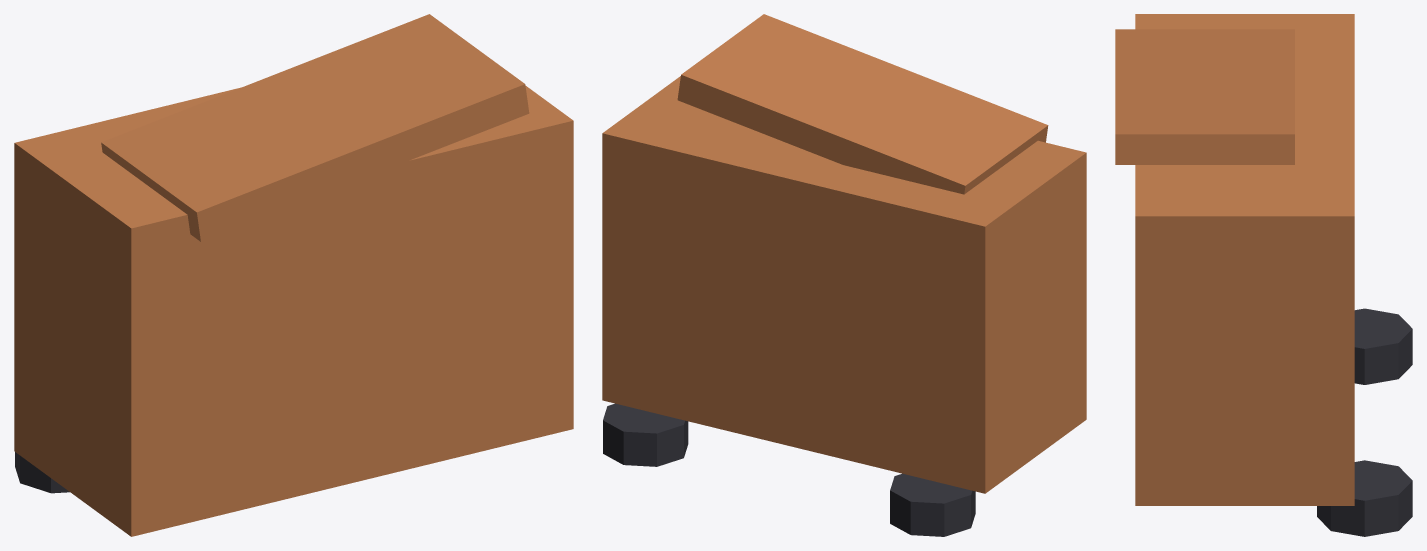
File: cave_mine_cart_broken.glb
The picture shows the model from 3 angles, left to right: view 1: azimuth 30°, elevation 25°; view 2: azimuth 150°, elevation 25°; view 3: azimuth 270°, elevation 25°; orthographic projection. The views are drawn at different scales.
Parts seen in each view (by area): view 1: cart_body, broken_side, wheel_1; view 2: cart_body, broken_side, wheel_2, wheel_1; view 3: cart_body, broken_side, wheel_2, wheel_1.
Part boxes in pixels (x1,y1,x2,y2): cart_body: (14,85,573,536); broken_side: (101,14,529,241); wheel_1: (15,452,69,493); cart_body: (602,76,1086,493); broken_side: (677,14,1048,194); wheel_2: (603,403,688,466); wheel_1: (890,473,975,536); cart_body: (1135,14,1354,505); broken_side: (1115,29,1294,164); wheel_2: (1317,460,1412,536); wheel_1: (1354,308,1412,384).
Bounding box in the file's own units: 1.2 × 1.05 × 0.745.
